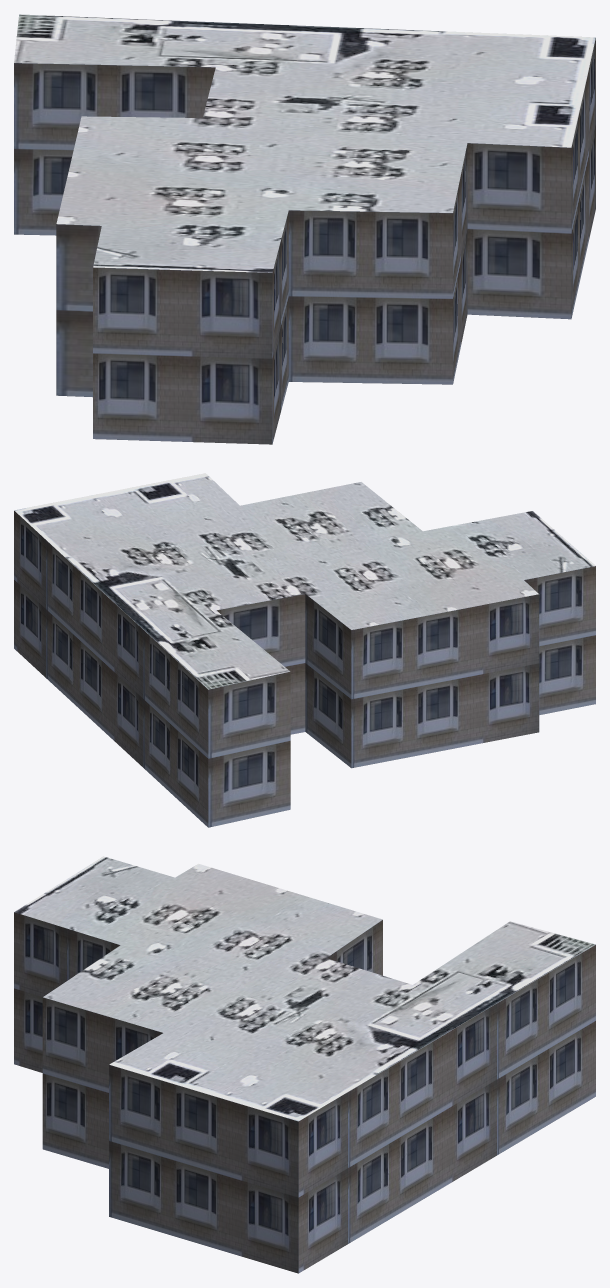
Rendered from ResTex__4500.fbx.
The picture shows the model from 3 angles, top to bottom: view 1: azimuth 30°, elevation 25°; view 2: azimuth 150°, elevation 25°; view 3: azimuth 270°, elevation 25°; orthographic projection. The views are drawn at different scales.
Visible parts, largest first — view 1: CityEngineMaterial_3_m, CityEngineMaterial_2_m; view 2: CityEngineMaterial_3_m, CityEngineMaterial_2_m; view 3: CityEngineMaterial_3_m, CityEngineMaterial_2_m.
Boxes of the visible parts, x1=… form: CityEngineMaterial_3_m: x1=14, y1=38, x2=595, y2=444; CityEngineMaterial_2_m: x1=14, y1=14, x2=595, y2=272; CityEngineMaterial_3_m: x1=14, y1=511, x2=595, y2=827; CityEngineMaterial_2_m: x1=14, y1=473, x2=595, y2=689; CityEngineMaterial_3_m: x1=14, y1=912, x2=595, y2=1273; CityEngineMaterial_2_m: x1=14, y1=856, x2=595, y2=1121.
Bounding box in the file's own units: 22.43 × 6 × 20.8.
Materials: 2 (2 with a texture image).
